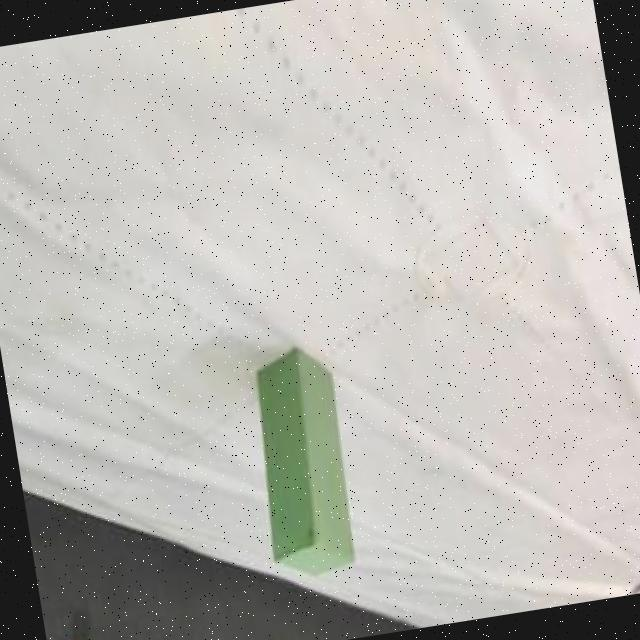greenbox: (239, 336, 366, 583)
